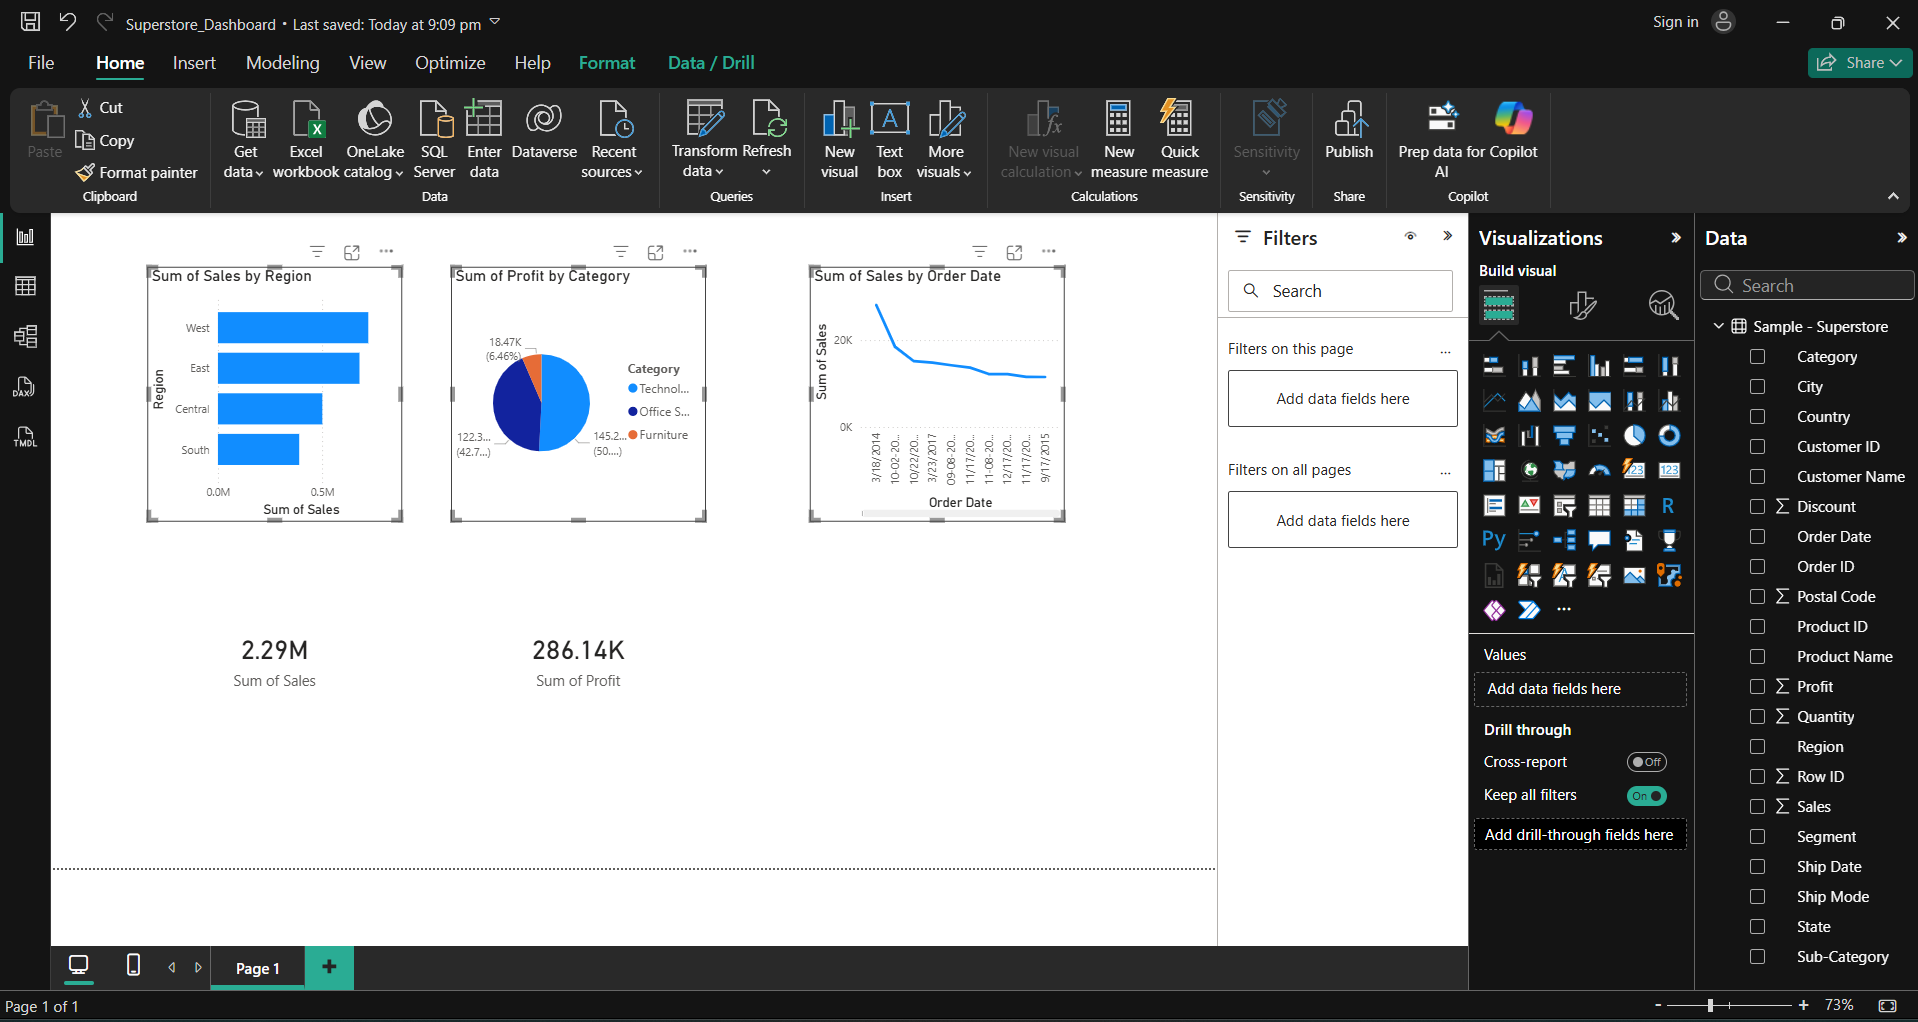

The dashboard page shown, as its layout file describes it:
{"tool":"powerbi","page":{"name":"Page 1","canvas":[1280,720],"ordinal":0},"visuals":[{"type":"clusteredBarChart","fields":{"Category":["Sample - Superstore.Region"],"Y":["Sum(Sample - Superstore.Sales)"]},"box":[105.7,59,279.9,279.9],"z":0},{"type":"pieChart","fields":{"Y":["Sum(Sample - Superstore.Profit)"],"Category":["Sample - Superstore.Category"]},"box":[439.1,59,279.9,279.9],"z":1},{"type":"lineChart","fields":{"Category":["Sample - Superstore.Order Date"],"Y":["Sum(Sample - Superstore.Sales)"]},"box":[832.9,59,279.9,279.9],"z":2},{"type":"card","fields":{"Values":["Sum(Sample - Superstore.Sales)"]},"box":[106,349,280,280],"z":3},{"type":"card","fields":{"Values":["Sum(Sample - Superstore.Profit)"]},"box":[439,349,280,280],"z":4}]}

Visuals, with their boxes on the page's 1280x720 design canvas (x1, y1, x2, y2). These are canvas units, not pixel positions in the 1918x1022 screenshot, which may show the page scaled, cropped or inside an application window:
clusteredBarChart - Sample - Superstore.Region x Sum(Sample - Superstore.Sales): <bbox>106, 59, 386, 339</bbox>
pieChart - Sum(Sample - Superstore.Profit) x Sample - Superstore.Category: <bbox>439, 59, 719, 339</bbox>
lineChart - Sample - Superstore.Order Date x Sum(Sample - Superstore.Sales): <bbox>833, 59, 1113, 339</bbox>
card - Sum(Sample - Superstore.Sales): <bbox>106, 349, 386, 629</bbox>
card - Sum(Sample - Superstore.Profit): <bbox>439, 349, 719, 629</bbox>
